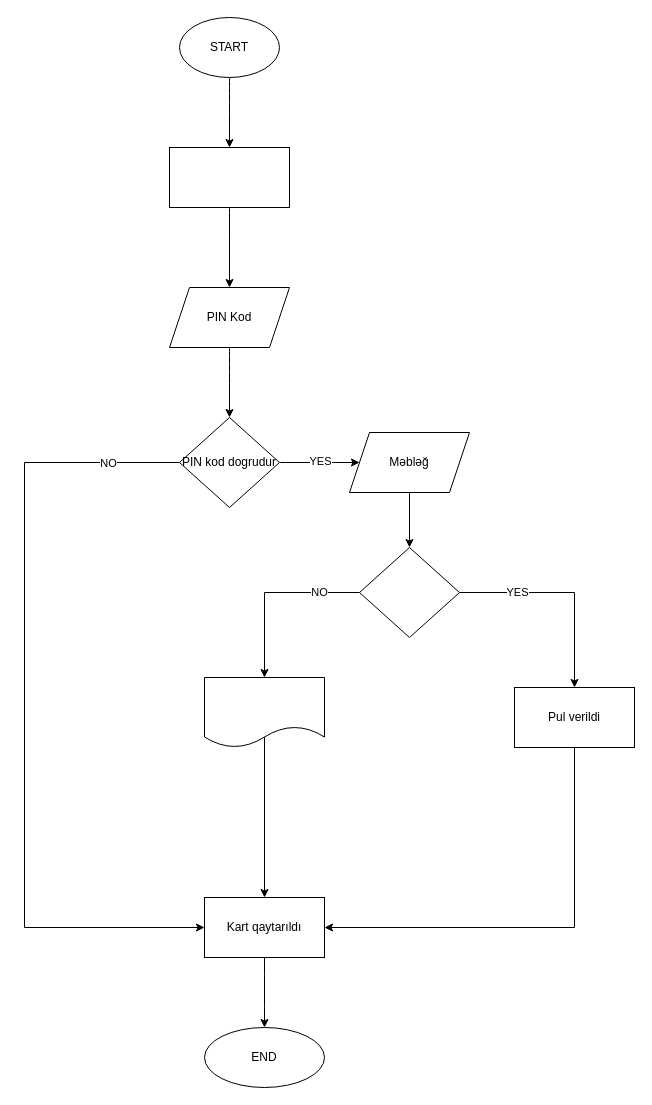
Some shapes in this 652 by 1105 pixel diagram are drawn without their labels. Each missing label, with the box of its shape:
Kart daxil edildi: (168, 146, 290, 208)
Kifayət qədər vəsait yoxdur: (204, 676, 324, 748)
Məbləğ çatır: (358, 546, 460, 638)
